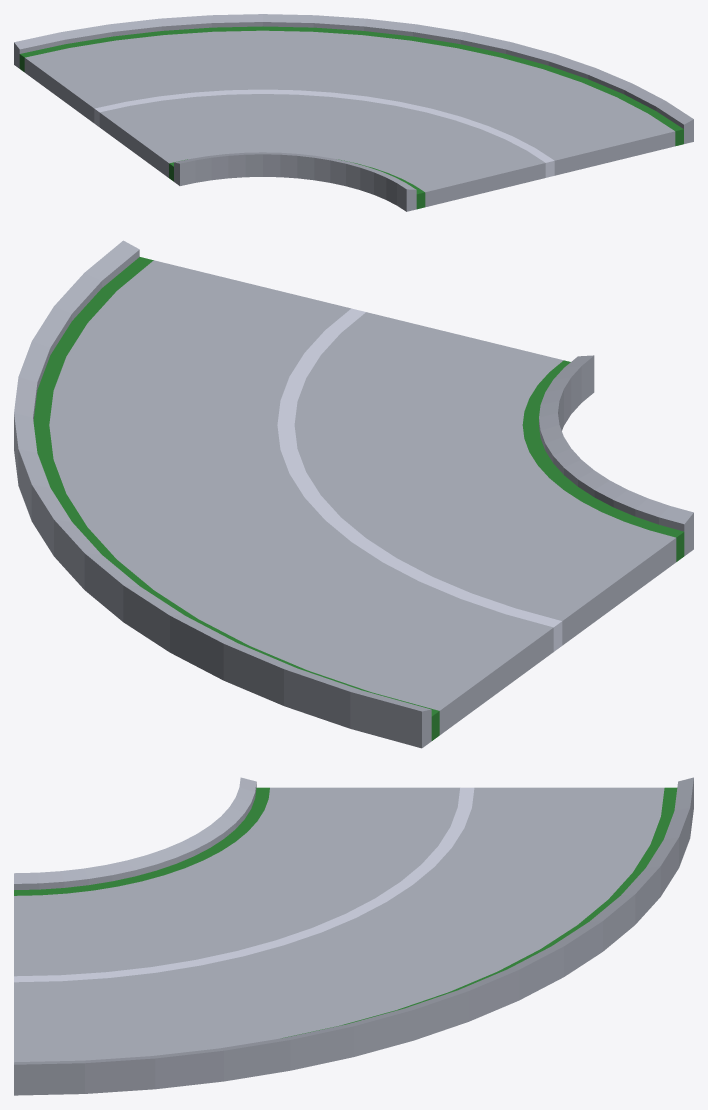
File: flat_turn.glb
3 views of the same model, one above another, from view 1: azimuth 30°, elevation 25°; view 2: azimuth 150°, elevation 25°; view 3: azimuth 270°, elevation 25° (orthographic). The views are drawn at different scales.
Visible parts, largest first — view 1: flat_large_turn; view 2: flat_large_turn; view 3: flat_large_turn.
Boxes of the visible parts, x1,y1,x2,y2 form: flat_large_turn: [14, 14, 693, 211]; flat_large_turn: [14, 240, 693, 748]; flat_large_turn: [14, 777, 693, 1095].
Size of the model in its own units: 30 by 1.5 by 30.
